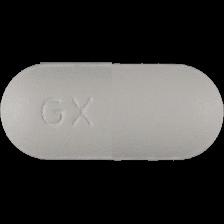0173-0387: (0, 0, 224, 224)
